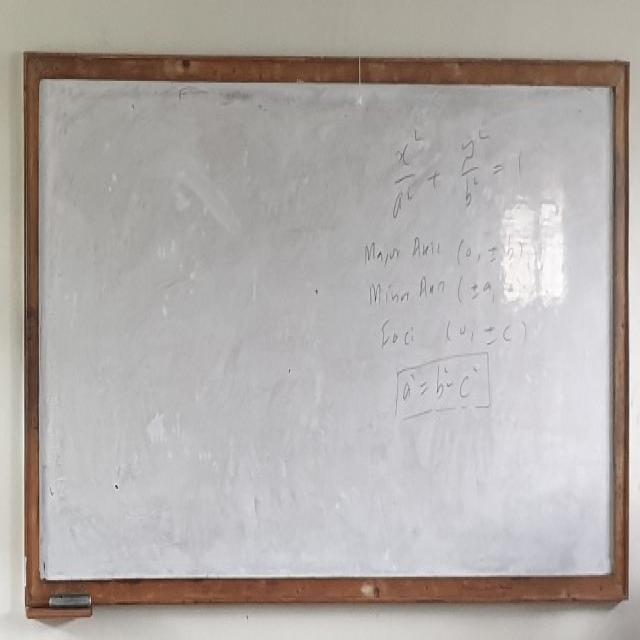White-board: (33, 64, 623, 594)
